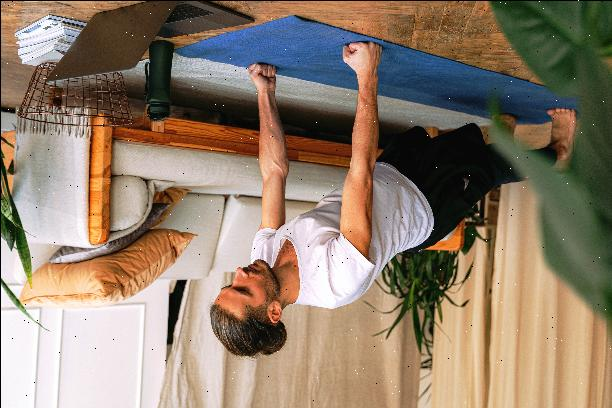Rock: (338, 36, 384, 75), (244, 59, 281, 91)
